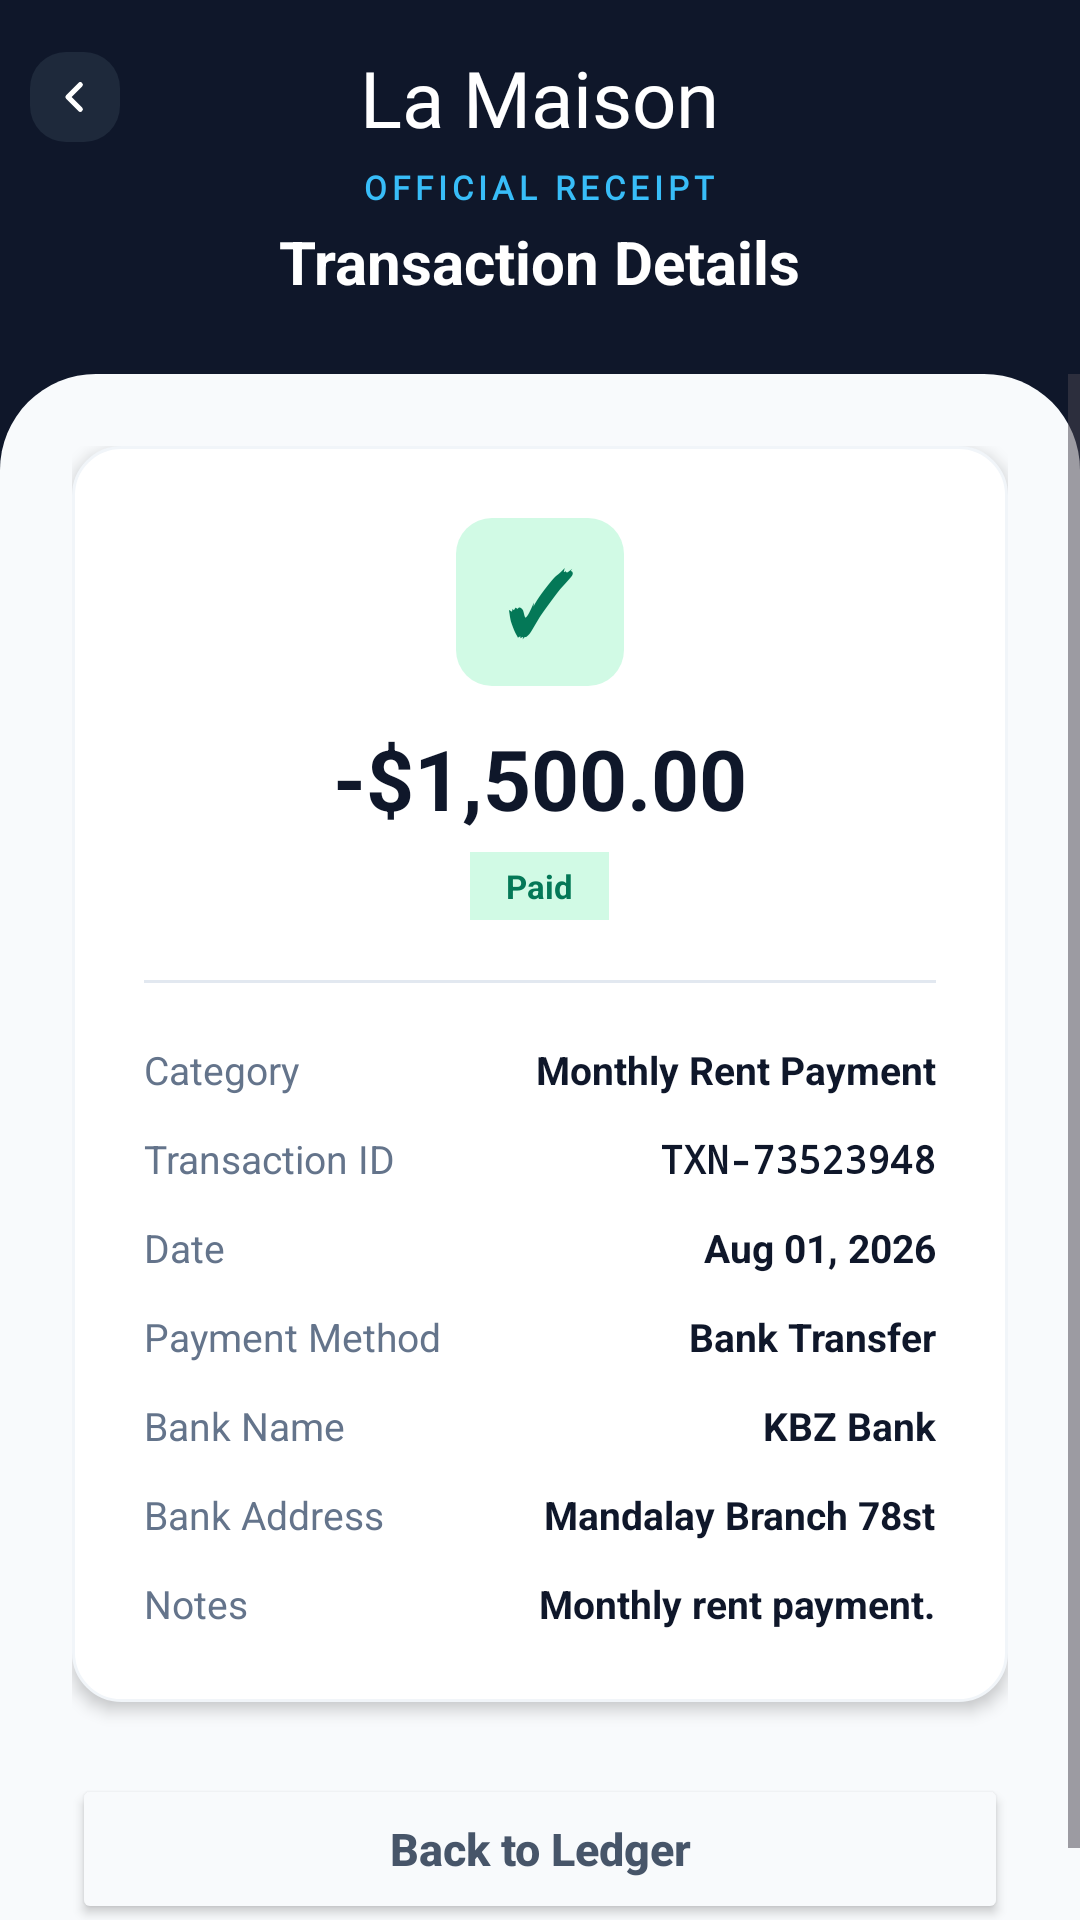

Icons on this 1080w x 1920h Android screen, each with the point to tap as [x,y]:
chevron left: [75,97]
